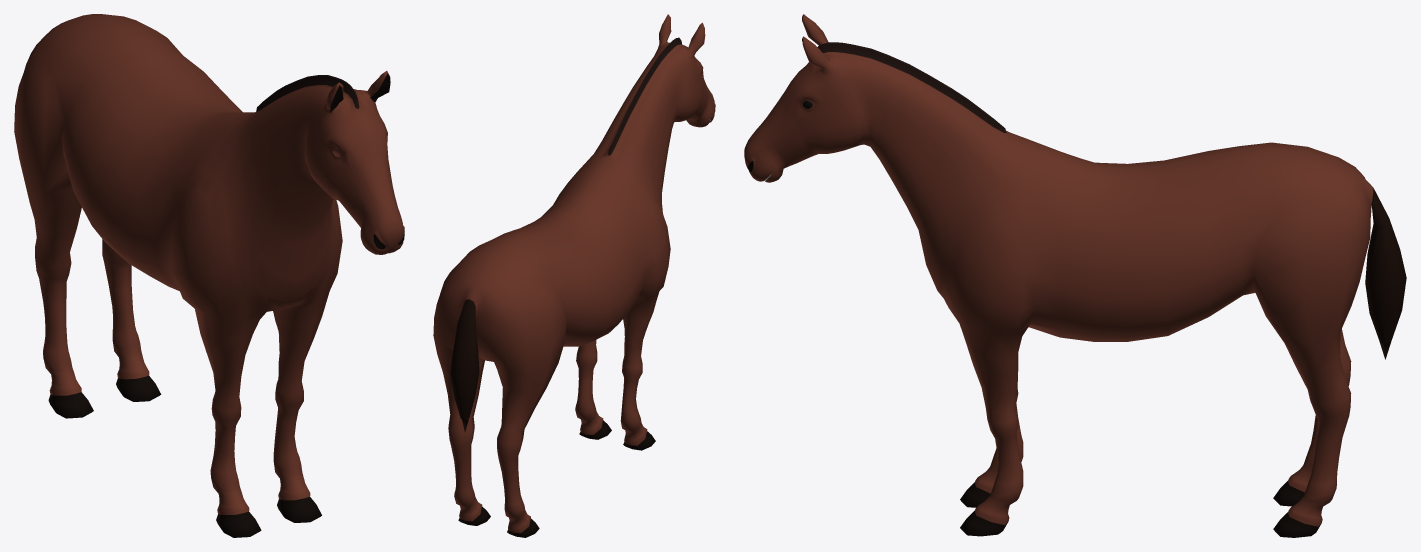
File: horse.obj
The picture shows the model from 3 angles, left to right: view 1: azimuth 30°, elevation 25°; view 2: azimuth 150°, elevation 25°; view 3: azimuth 270°, elevation 25°; orthographic projection. The views are drawn at different scales.
Parts seen in each view (by area): view 1: horse; view 2: horse; view 3: horse.
Part boxes in pixels (x1,y1,x2,y2): horse: (14, 14, 404, 537); horse: (433, 14, 715, 537); horse: (744, 14, 1406, 537).
Bounding box in the file's own units: 0.7053 × 2.07 × 2.54.
